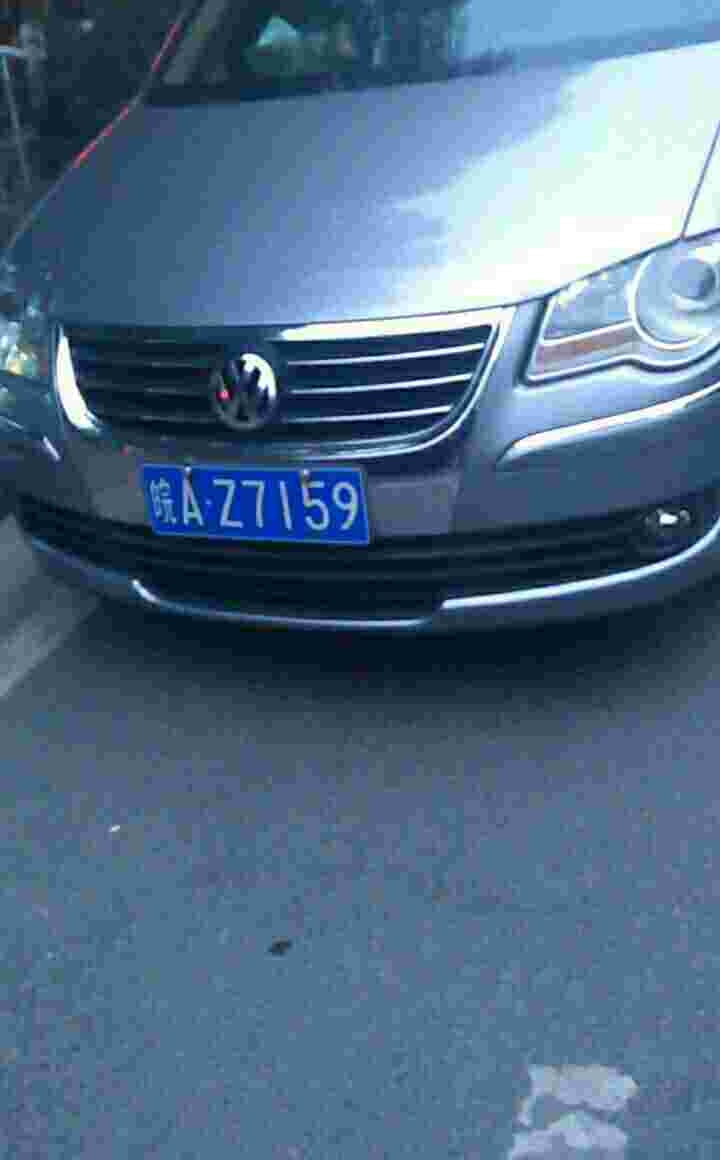plate: (135, 459, 377, 548)
